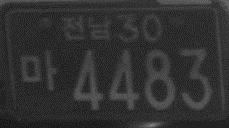0: (140, 11, 163, 43)
3: (178, 45, 212, 109), (115, 9, 140, 45)
4: (107, 49, 140, 111), (73, 47, 104, 111)
8: (142, 49, 175, 111)
마: (18, 48, 59, 93)
전남_O: (58, 13, 112, 43)
